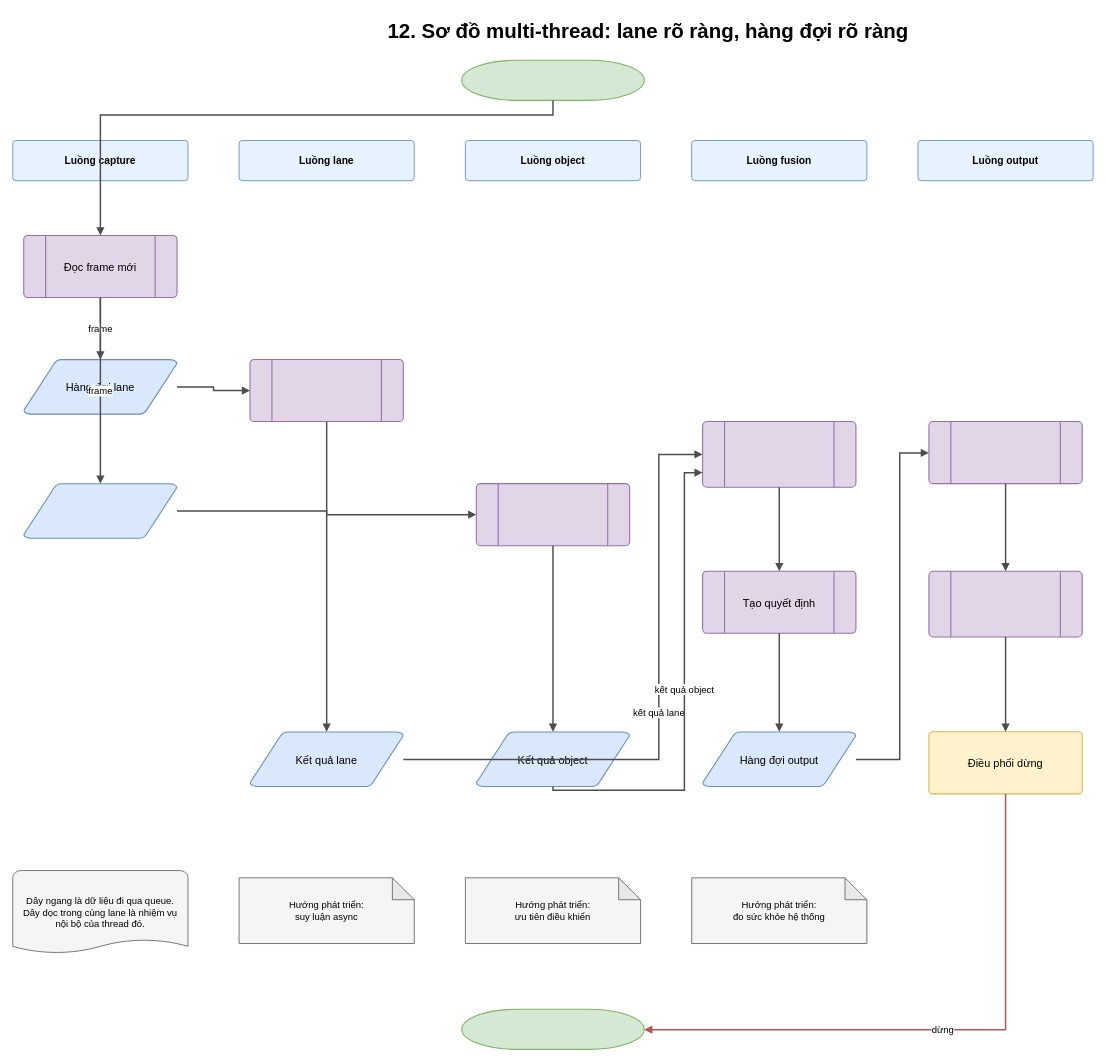
Some shapes in this 1107 by 1062 pixel diagram are drawn without their labels. The centre of each missing label's shape, as x and y in pixels:
"Các luồng dừng sạch" belongs at pixel 552 1029.
"Hiển thị hoặc gửi RC" belongs at pixel 1005 603.
"Hàng đợi object" belongs at pixel 100 511.
"Kiểm tra an toàn" belongs at pixel 1005 452.
"Runtime multi-thread" belongs at pixel 552 80.
"Xử lý lane" belongs at pixel 326 390.
"Xử lý object" belongs at pixel 552 514.
"Đồng bộ theo frame" belongs at pixel 779 454.
